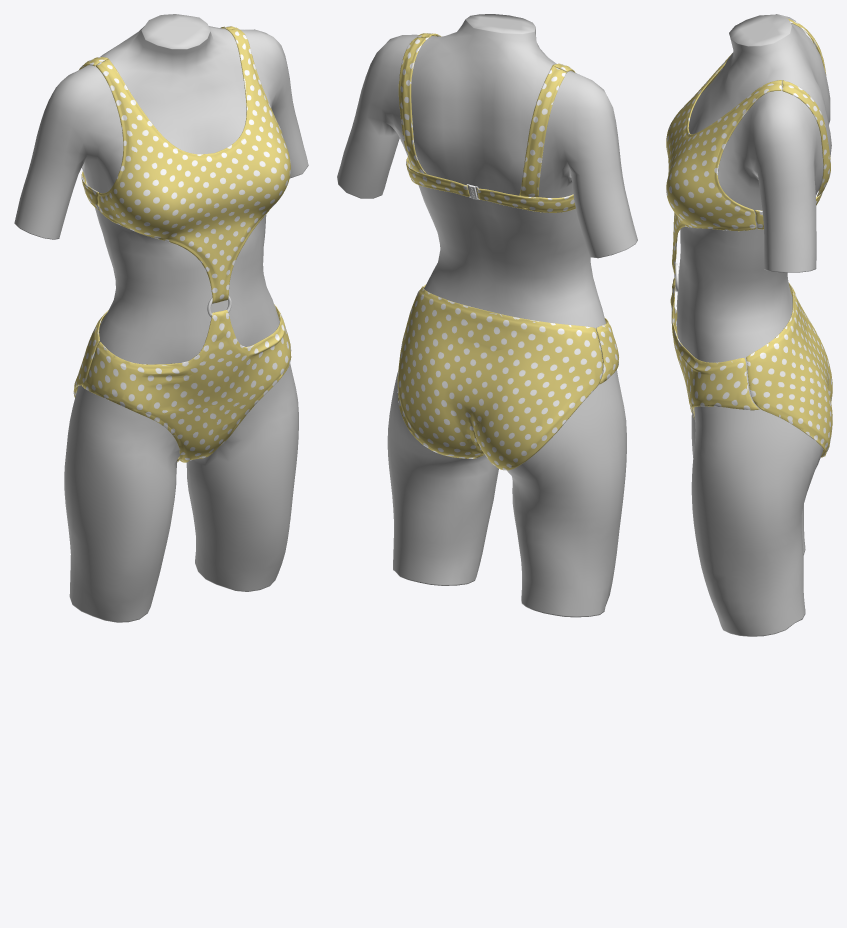
The model's file is Swimsuit_C.gltf.
The picture shows the model from 3 angles, left to right: view 1: azimuth 30°, elevation 25°; view 2: azimuth 150°, elevation 25°; view 3: azimuth 270°, elevation 25°; orthographic projection.
Visible parts, largest first — view 1: AvatarMujer_quads, Swimsuit_C_01_Main; view 2: AvatarMujer_quads, Swimsuit_C_01_Main; view 3: AvatarMujer_quads, Swimsuit_C_01_Main.
Boxes of the visible parts, bbox=[...] form: AvatarMujer_quads: bbox=[14, 14, 308, 622]; Swimsuit_C_01_Main: bbox=[73, 26, 291, 462]; AvatarMujer_quads: bbox=[337, 14, 637, 617]; Swimsuit_C_01_Main: bbox=[397, 33, 618, 470]; AvatarMujer_quads: bbox=[676, 14, 831, 636]; Swimsuit_C_01_Main: bbox=[666, 18, 832, 457].
Bounding box in the file's own units: 0.521 × 1.53 × 0.26.
3 materials, 1 textured.
